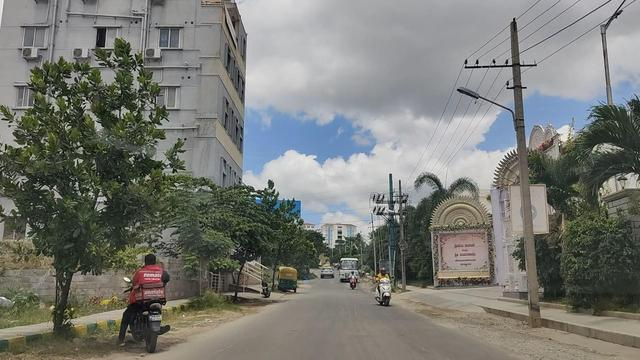LMV: (116, 249, 178, 360)
RoadDamages: (456, 328, 568, 360)
